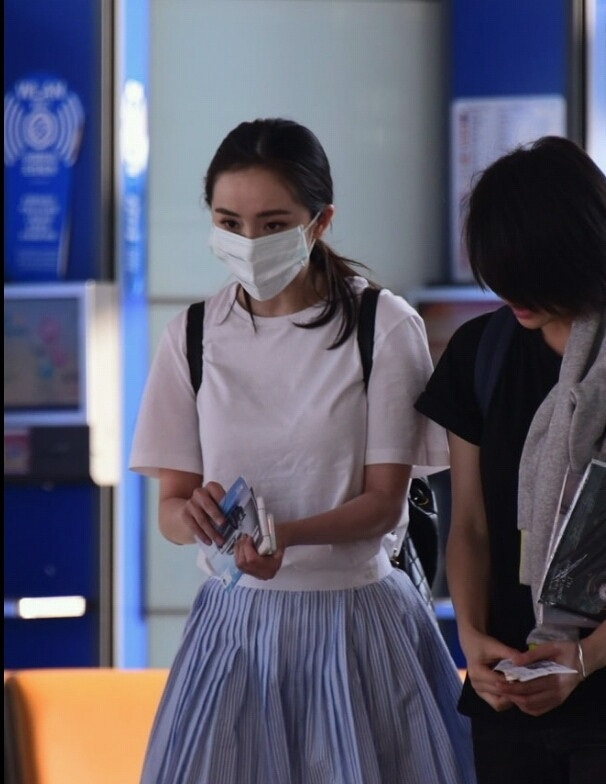face_mask: (212, 168, 308, 301)
